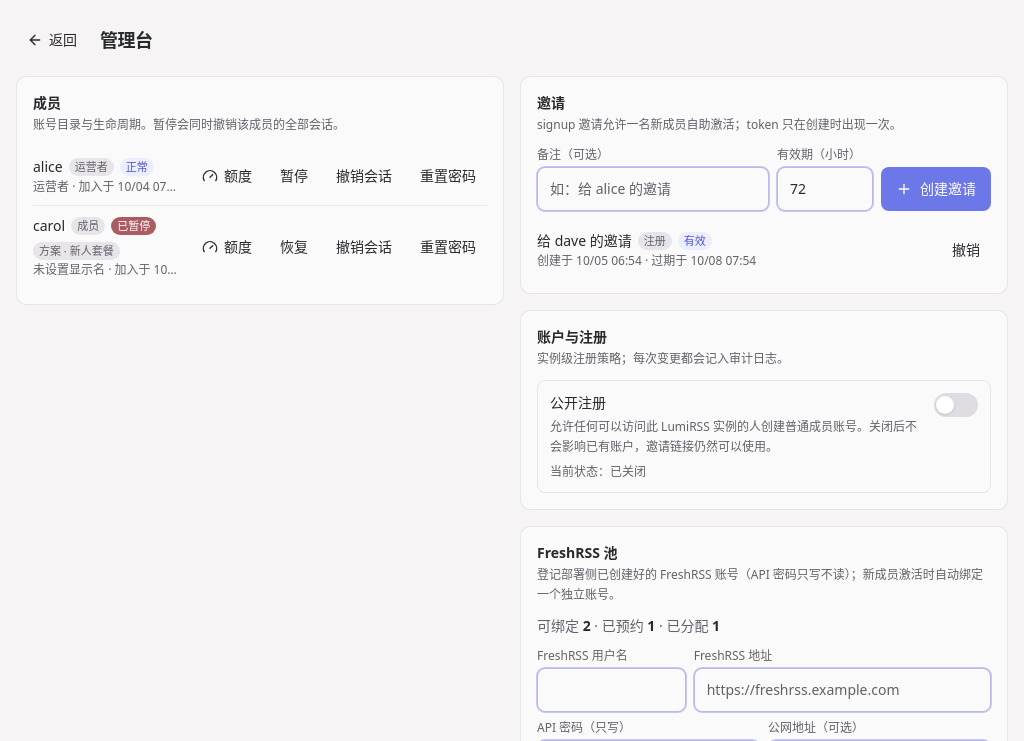
账户与注册（P0-05 注册策略开关） › 切换开关 → PUT /admin/registration-policy 携带新值，成功后按服务端响应刷新
Click the switch named "公开注册".
click(956, 405)  # box x1=934 y1=393 x2=978 y2=417
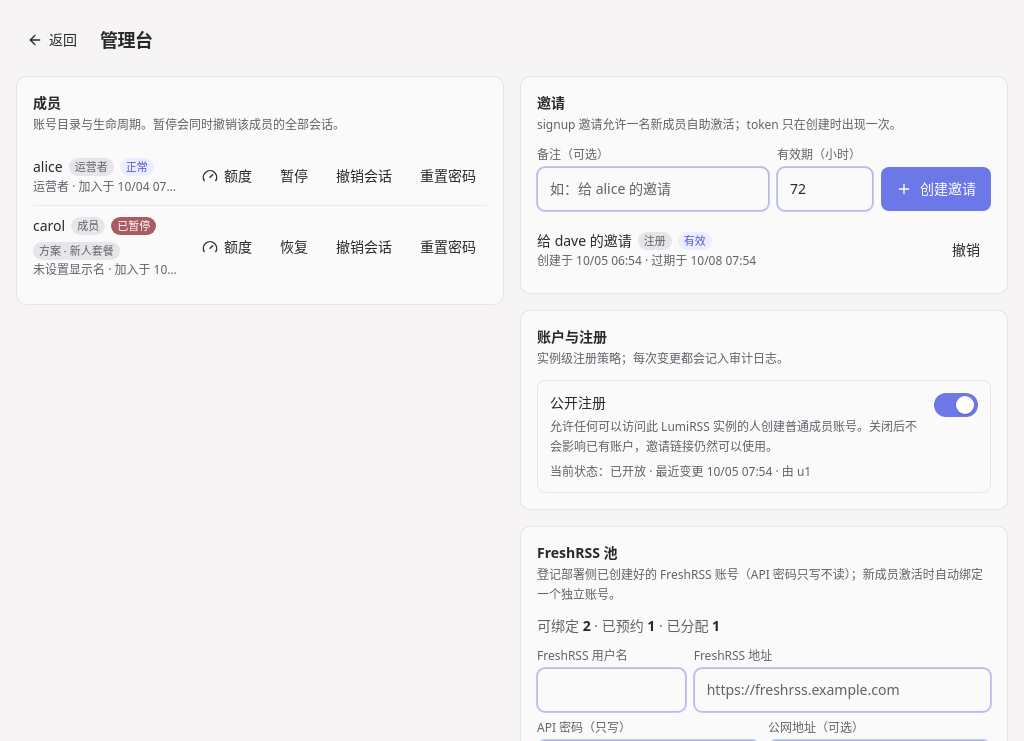
Result: the element with test id "registration-policy" shows "当前状态：已开放" at x1=537 y1=326 x2=991 y2=493
